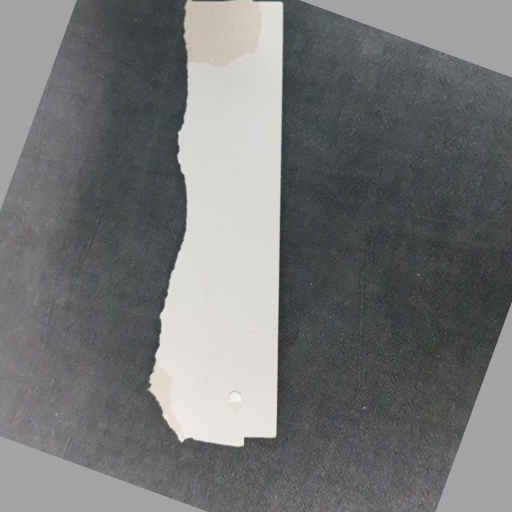Paper_2: (169, 1, 300, 453)
